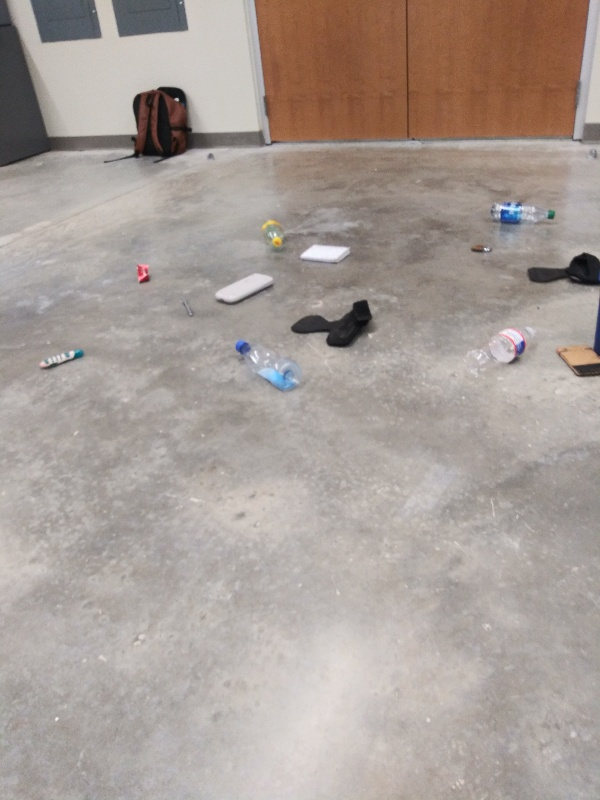bottle: (460, 318, 541, 386), (232, 335, 305, 392), (487, 197, 563, 230), (256, 212, 288, 252)
